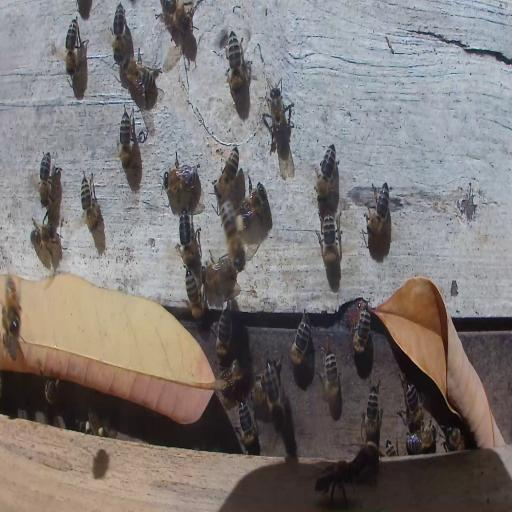bee: (218, 195, 247, 274), (315, 458, 358, 502), (120, 54, 158, 98), (264, 78, 292, 136), (236, 177, 268, 226), (319, 342, 342, 408), (342, 438, 378, 480), (317, 210, 340, 275), (313, 144, 338, 202), (80, 171, 103, 234), (365, 181, 391, 236), (215, 143, 239, 202), (262, 360, 284, 424), (2, 274, 23, 341), (226, 34, 250, 92), (235, 399, 259, 455), (163, 164, 200, 198), (289, 312, 311, 367), (177, 207, 197, 267), (350, 304, 372, 357), (200, 256, 236, 288), (184, 268, 206, 318), (363, 384, 381, 441), (275, 123, 293, 179), (403, 381, 423, 430), (31, 222, 59, 254), (118, 108, 132, 171), (215, 308, 231, 362), (38, 150, 52, 207), (112, 2, 126, 58), (405, 428, 435, 454), (65, 16, 78, 76), (221, 357, 243, 392), (440, 425, 466, 452), (86, 412, 103, 436), (45, 378, 59, 406), (383, 438, 397, 458)
